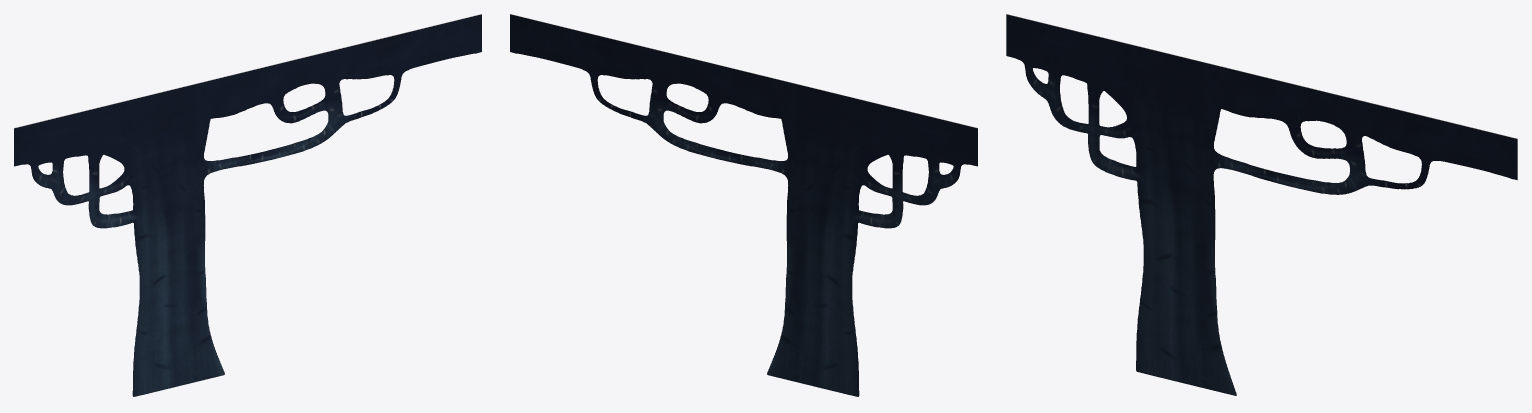
The model's file is Arbre_02.fbx.
3 views of the same model, side by side, from view 1: azimuth 30°, elevation 25°; view 2: azimuth 150°, elevation 25°; view 3: azimuth 330°, elevation 25° (orthographic). The views are drawn at different scales.
Parts seen in each view (by area): view 1: Arbre_02; view 2: Arbre_02; view 3: Arbre_02.
Boxes of the visible parts, x1,y1,x2,y2 form: Arbre_02: [14, 14, 481, 396]; Arbre_02: [510, 14, 977, 396]; Arbre_02: [1006, 14, 1517, 395].
Size of the model in its own units: 19 by 11.58 by 2.38e-07.
